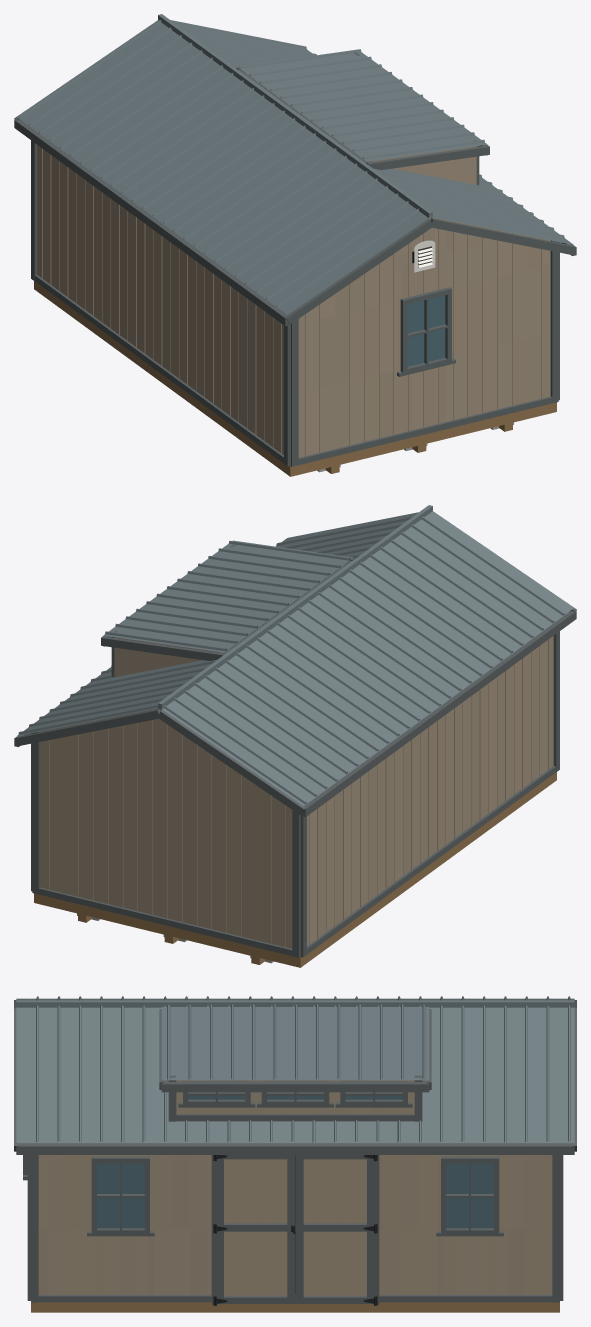
The model's file is 12-dormer-package.glb.
The picture shows the model from 3 angles, top to bottom: view 1: azimuth 30°, elevation 25°; view 2: azimuth 150°, elevation 25°; view 3: azimuth 270°, elevation 25°; orthographic projection. The views are drawn at different scales.
Parts seen in each view (by area): view 1: Main roof, front wall, left wall, Dormer roof, Floor platform and skids, front wall window, Dormer cheeks, front wall vent; view 2: Main roof, rear wall, left wall, Dormer roof, Floor platform and skids, Dormer cheeks; view 3: Main roof, right wall, right wall double, Dormer roof, right wall window, Floor platform and skids, right dormer wall, right dormer wall transom, front wall, rear wall.
Part boxes in pixels (<box>): Main roof: <box>14,14,576,326</box>; front wall: <box>290,217,558,466</box>; left wall: <box>31,121,290,466</box>; Dormer roof: <box>236,49,489,169</box>; Floor platform and skids: <box>34,281,556,476</box>; front wall window: <box>397,287,455,376</box>; Dormer cheeks: <box>371,146,476,184</box>; front wall vent: <box>414,240,435,272</box>; Main roof: <box>14,505,576,817</box>; rear wall: <box>32,708,300,957</box>; left wall: <box>300,612,559,957</box>; Dormer roof: <box>101,540,354,660</box>; Floor platform and skids: <box>34,772,556,967</box>; Dormer cheeks: <box>114,637,219,677</box>; Main roof: <box>14,996,576,1154</box>; right wall: <box>31,1133,559,1302</box>; right wall double: <box>211,1155,379,1305</box>; Dormer roof: <box>159,1004,431,1092</box>; right wall window: <box>87,1156,503,1236</box>; Floor platform and skids: <box>31,1302,559,1312</box>; right dormer wall: <box>168,1075,422,1121</box>; right dormer wall transom: <box>178,1081,412,1107</box>; front wall: <box>27,999,30,1300</box>; rear wall: <box>560,999,563,1300</box>.
Size of the model in its own units: 4 by 3.23 by 6.49.
